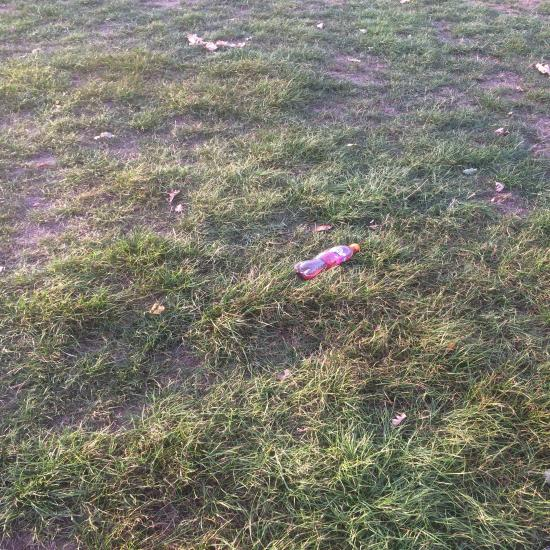Clear plastic bottle: (294, 243, 360, 279)
Plastic bottle cap: (352, 243, 360, 251)
